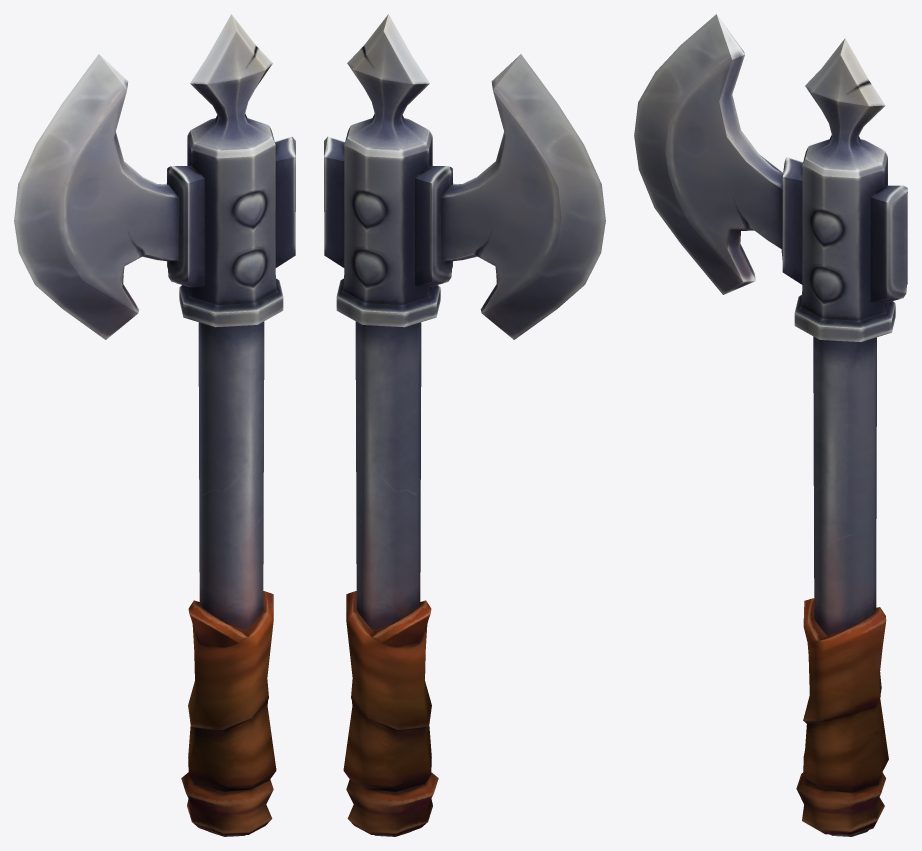
File: 002_an_axe.fbx
3 renders of one model, left to right at view 1: azimuth 30°, elevation 25°; view 2: azimuth 150°, elevation 25°; view 3: azimuth 330°, elevation 25°, orthographic. The views are drawn at different scales.
Parts seen in each view (by area): view 1: 002_an_axe; view 2: 002_an_axe; view 3: 002_an_axe.
Boxes of the visible parts, x1,y1,x2,y2 form: 002_an_axe: (14,14,295,836); 002_an_axe: (324,14,605,836); 002_an_axe: (634,14,907,836).
Bounding box in the file's own units: 21.75 × 59.88 × 6.98.
